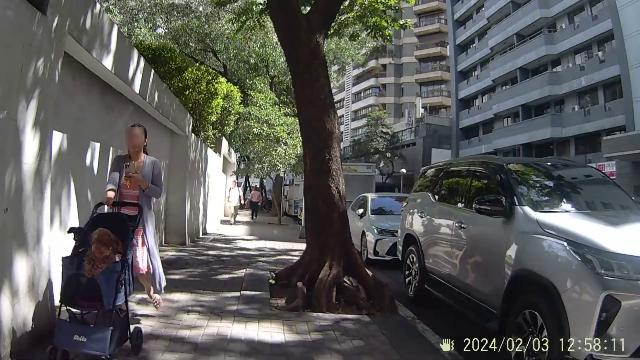tree: (268, 0, 380, 320)
